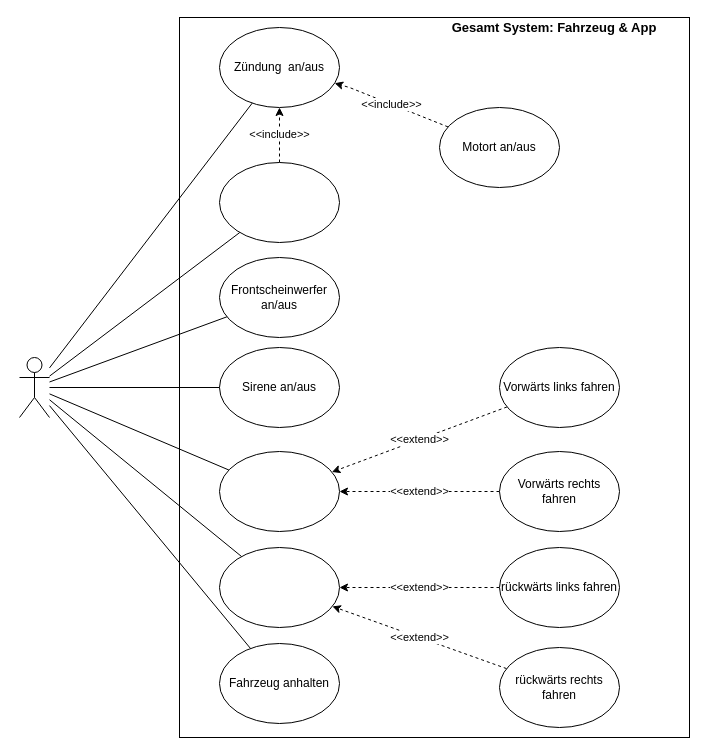
The diagram is 707 pixels wide and 755 high, and some of its shapes have lost their labels. Each missing label, with the box of its shape:
Lastbetrieb an/aus: (218, 162, 340, 242)
Nutzer: (18, 356, 50, 418)
rückwärts fahren: (218, 546, 340, 628)
Vorwärts fahren: (218, 450, 340, 532)
